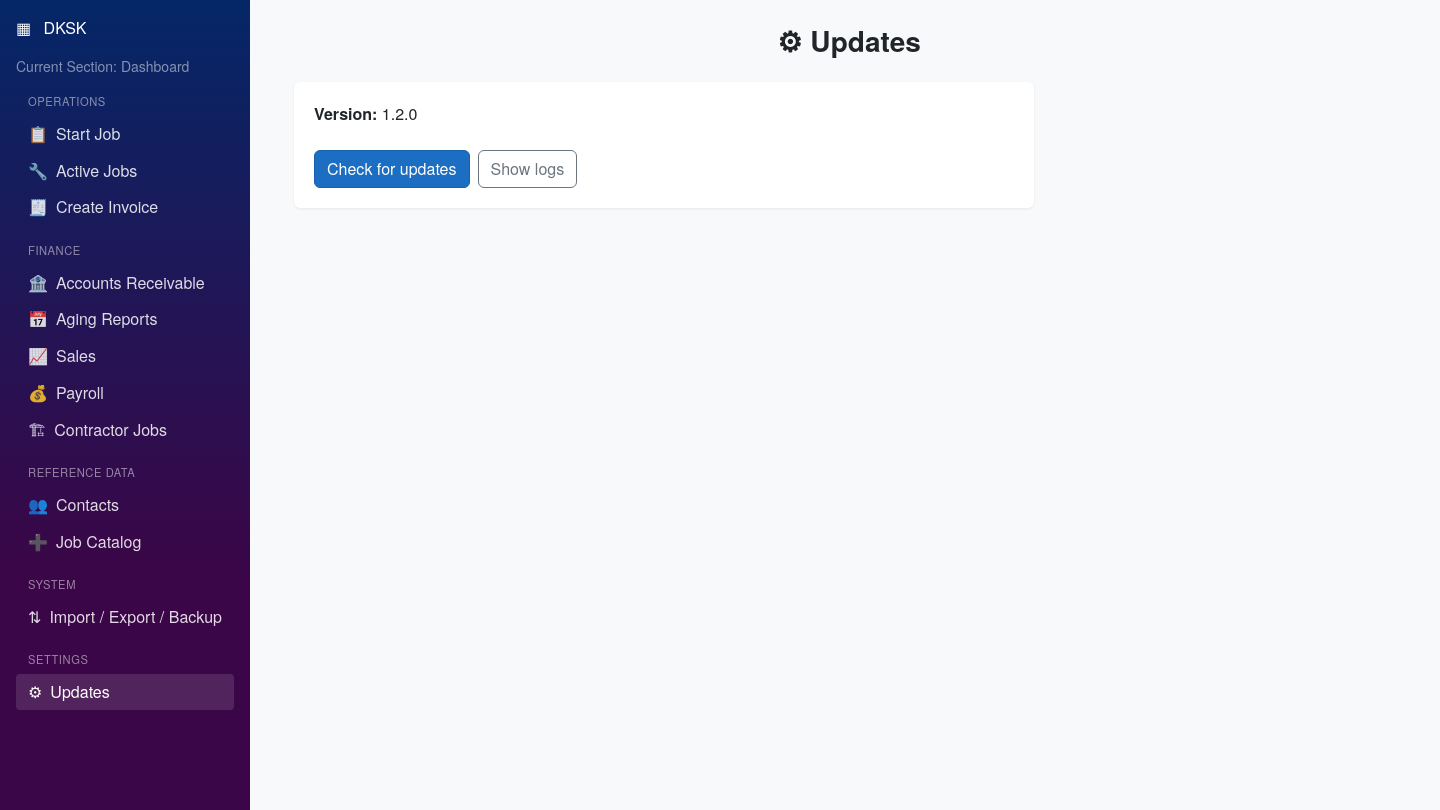
Test: Updater end-to-end (Updates page + dialog) › opens up-to-date dialog when no newer release exists
Click the button "Check for updates".
click(392, 169)  # box left=314, top=150, right=470, bottom=188
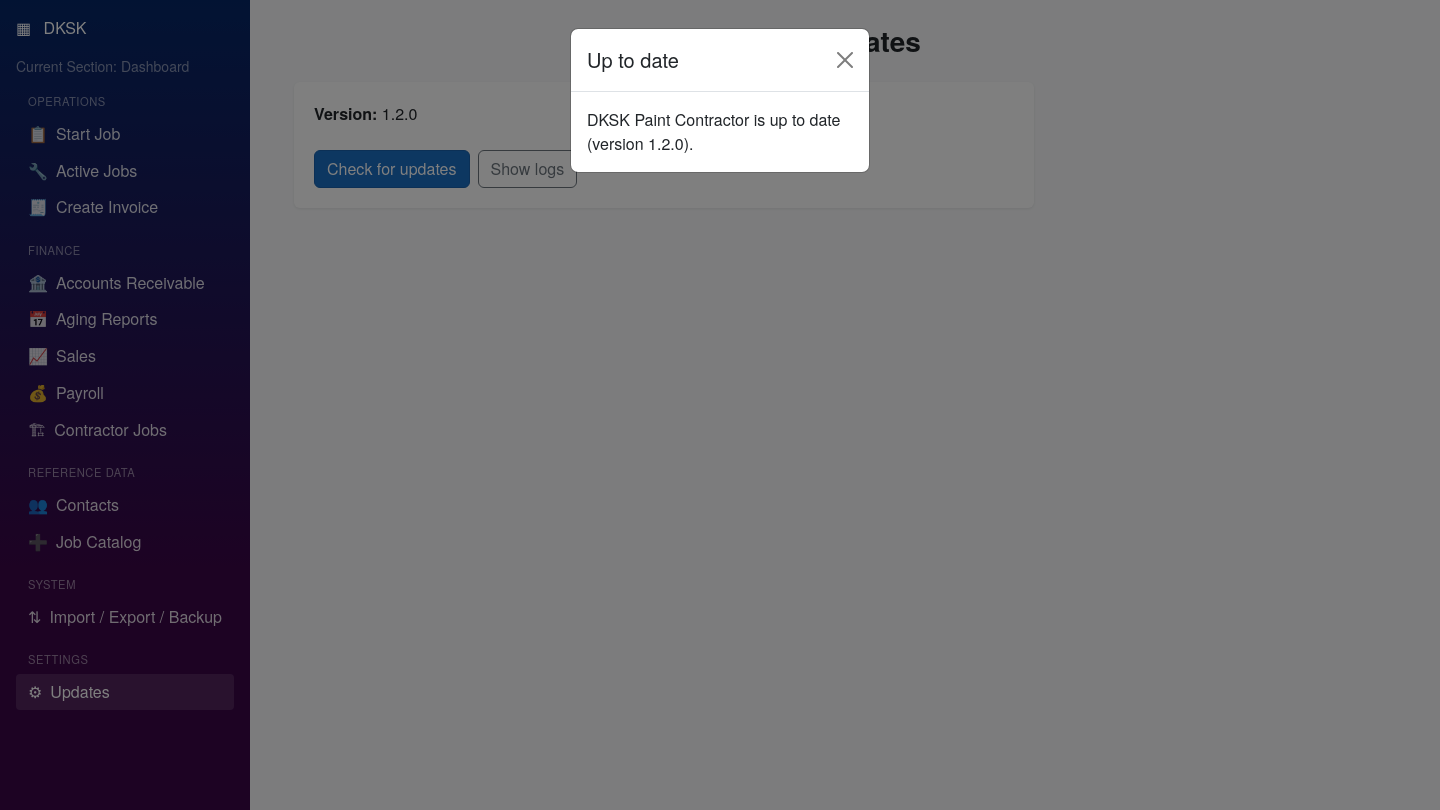
expect the heading "Up to date" is shown: met, box left=587, top=45, right=679, bottom=75
expect the text "DKSK Paint Contractor is up to date (version 1.2.0)." is shown: met, box left=587, top=108, right=853, bottom=156
